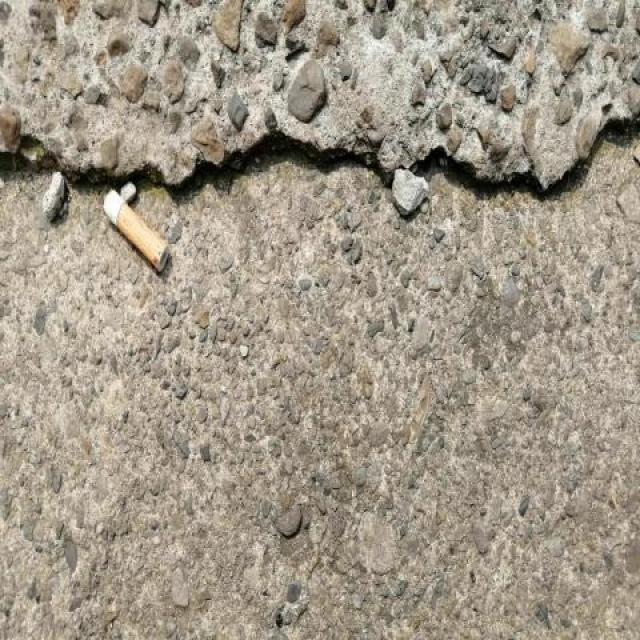non-organic waste: (98, 187, 173, 280)
